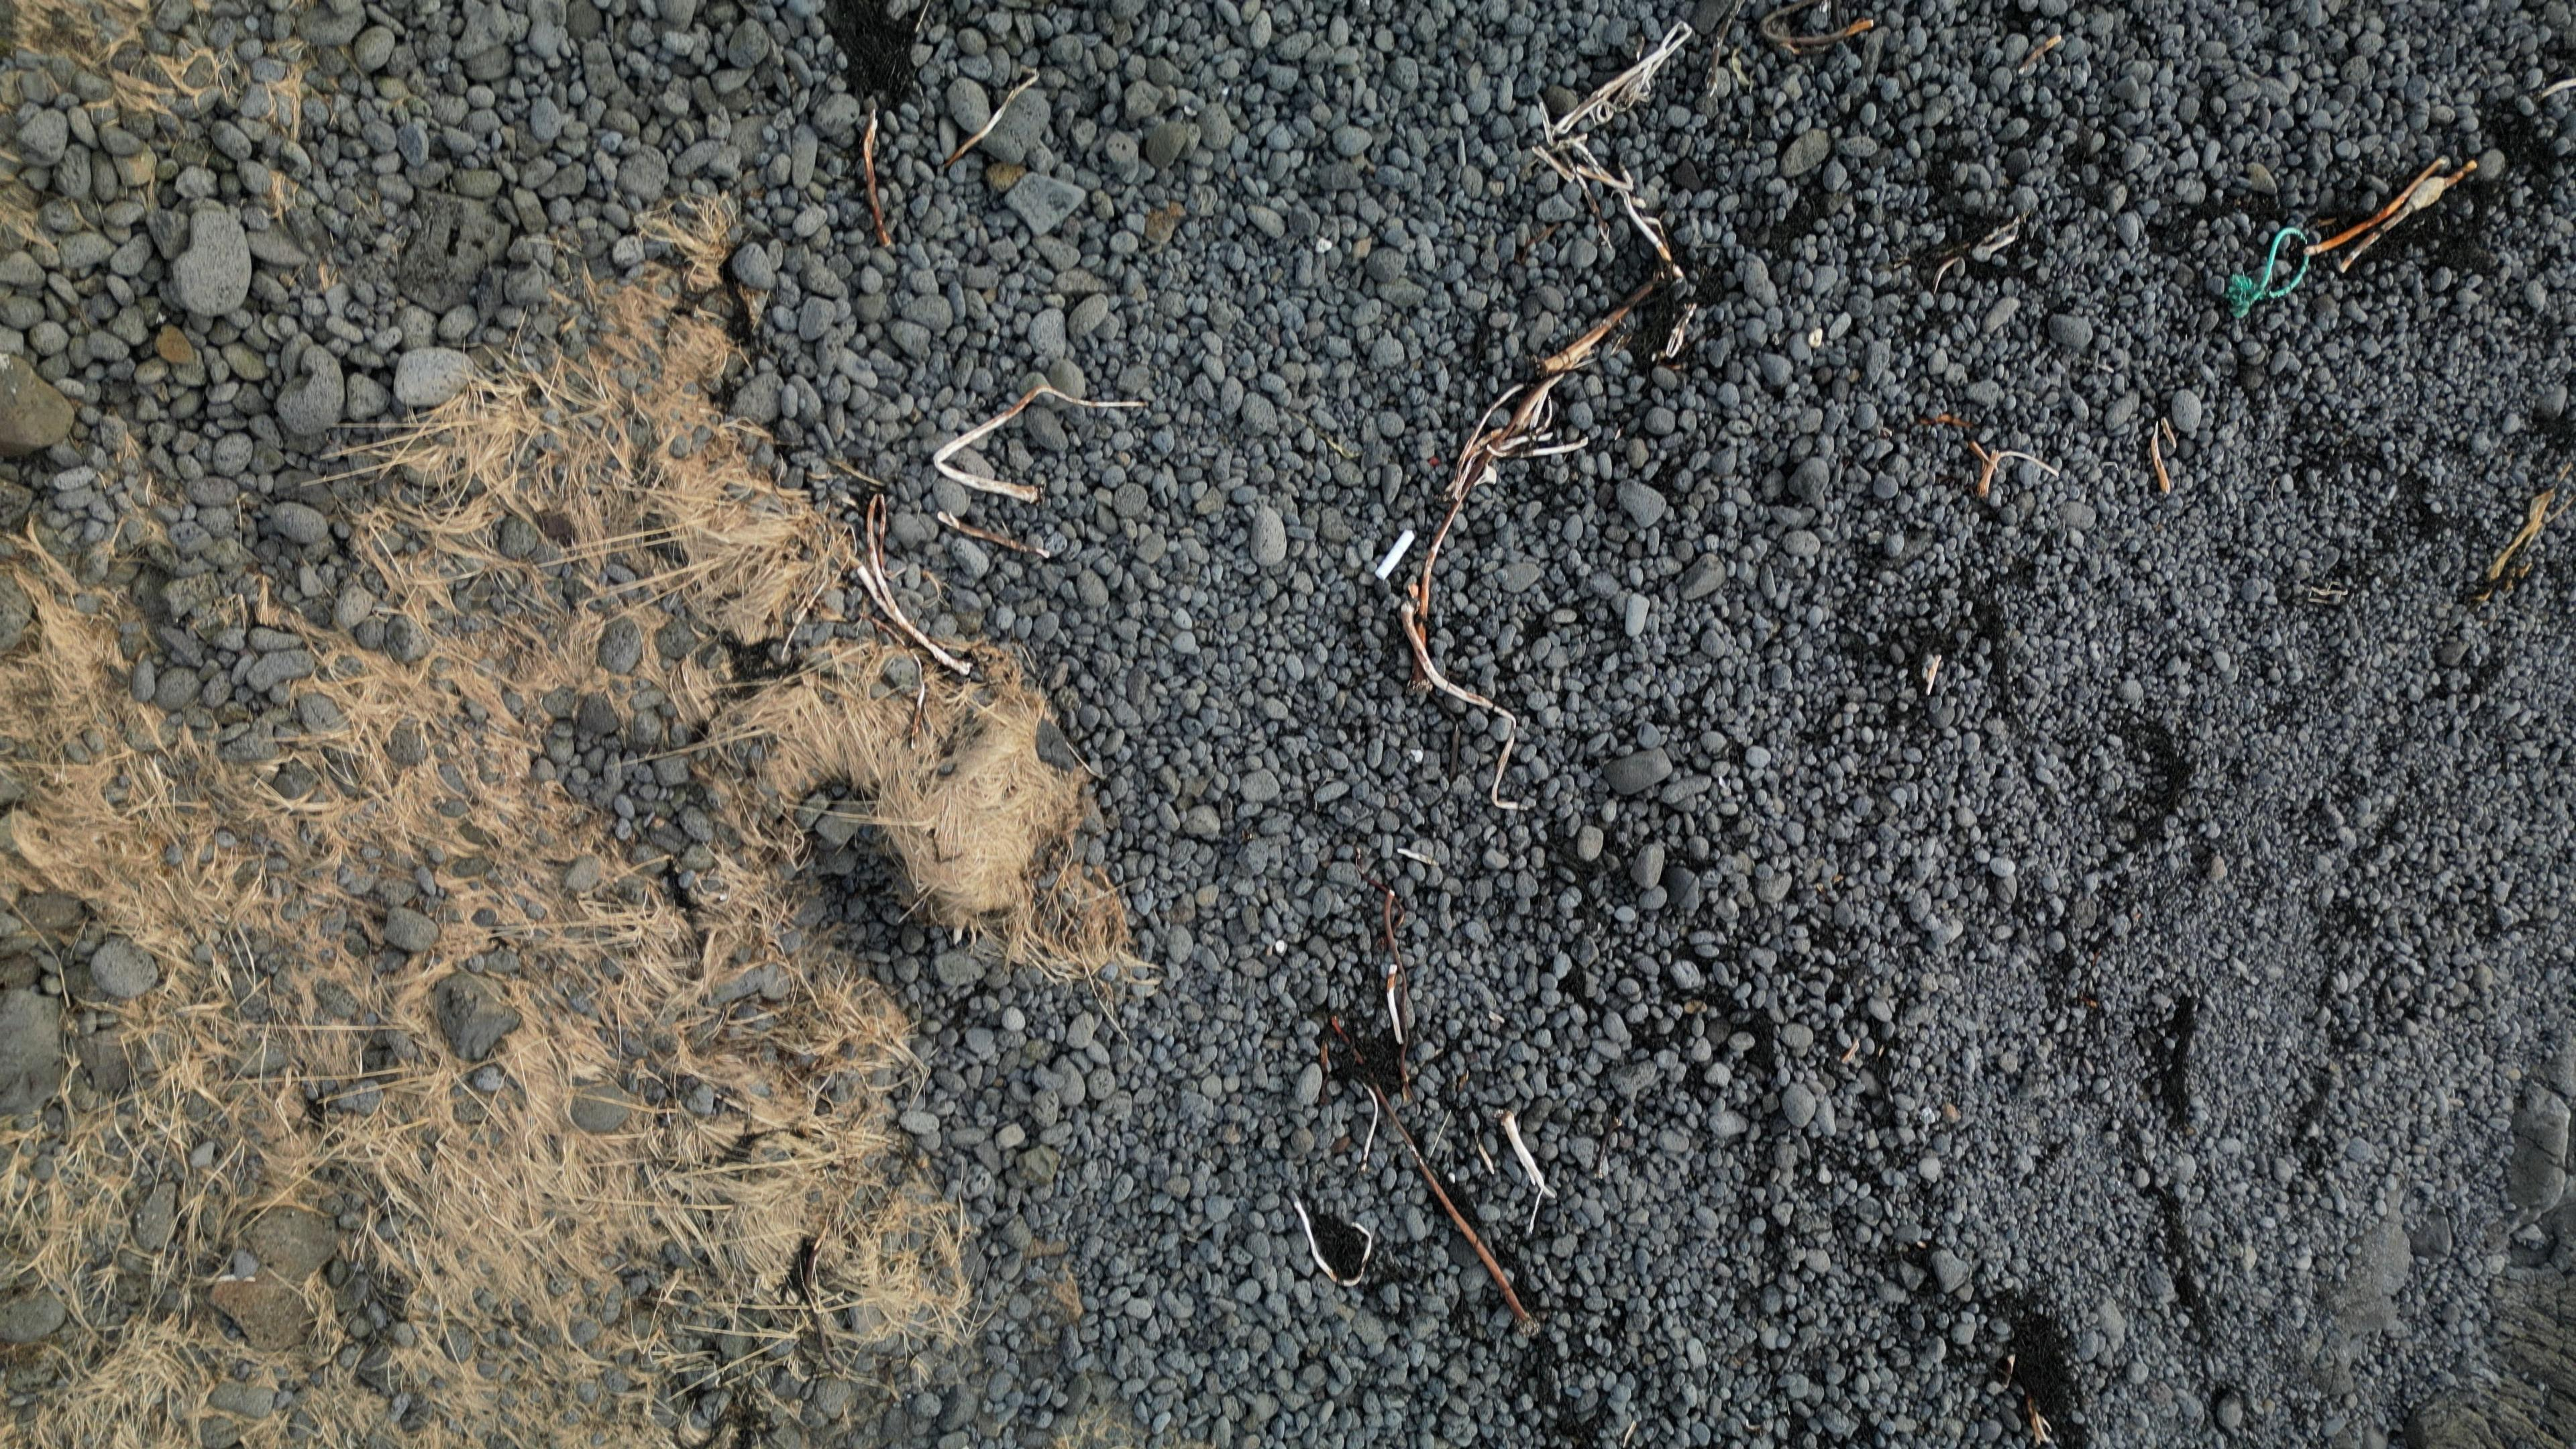trash: (2224, 227, 2309, 322), (1374, 529, 1414, 578)
